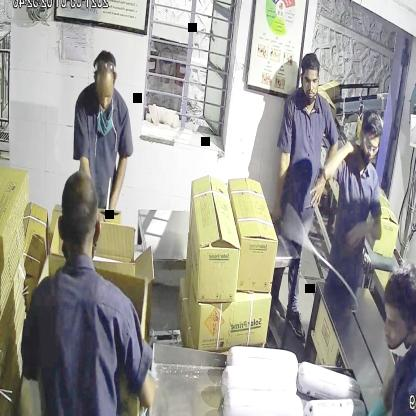goggles: (359, 132, 383, 159)
no_goggles: (296, 70, 323, 90)
